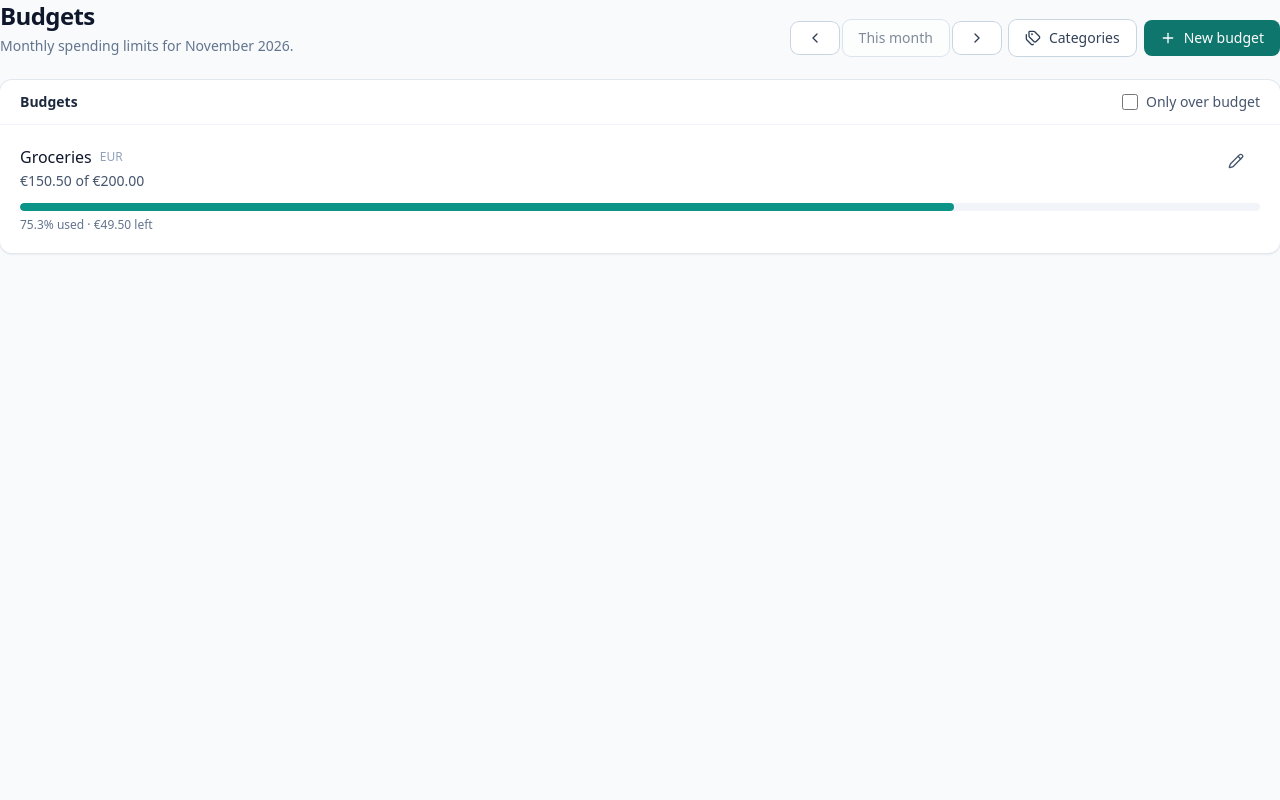
Test: BudgetsPage › creates a budget for the shown month with a numeric amount
Check: the text "€150.50 of €200.00" is shown, box [20,171,144,191]
Click the button "New budget" at (1212, 38), box [1144,20,1279,56]
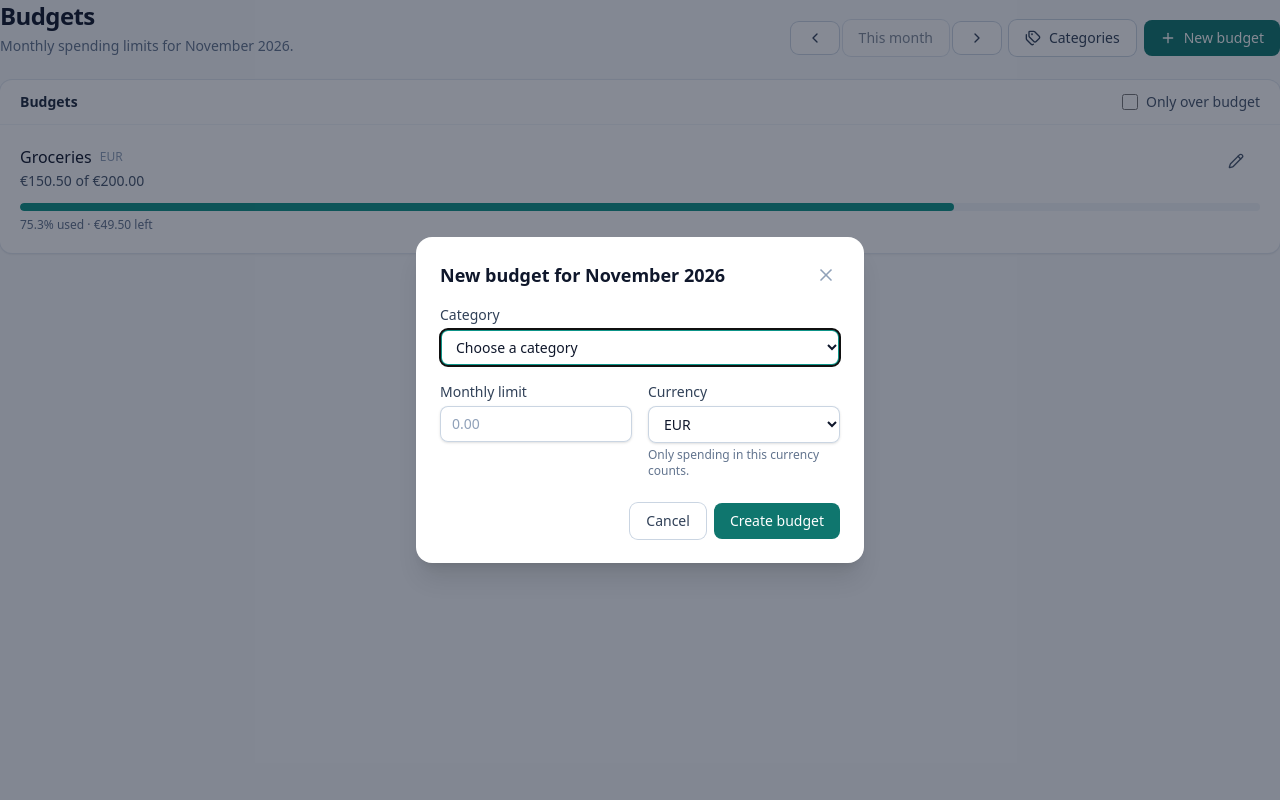
Select "Travel" in the dropdown labelled "Category" at (640, 348), box [440,329,840,366]
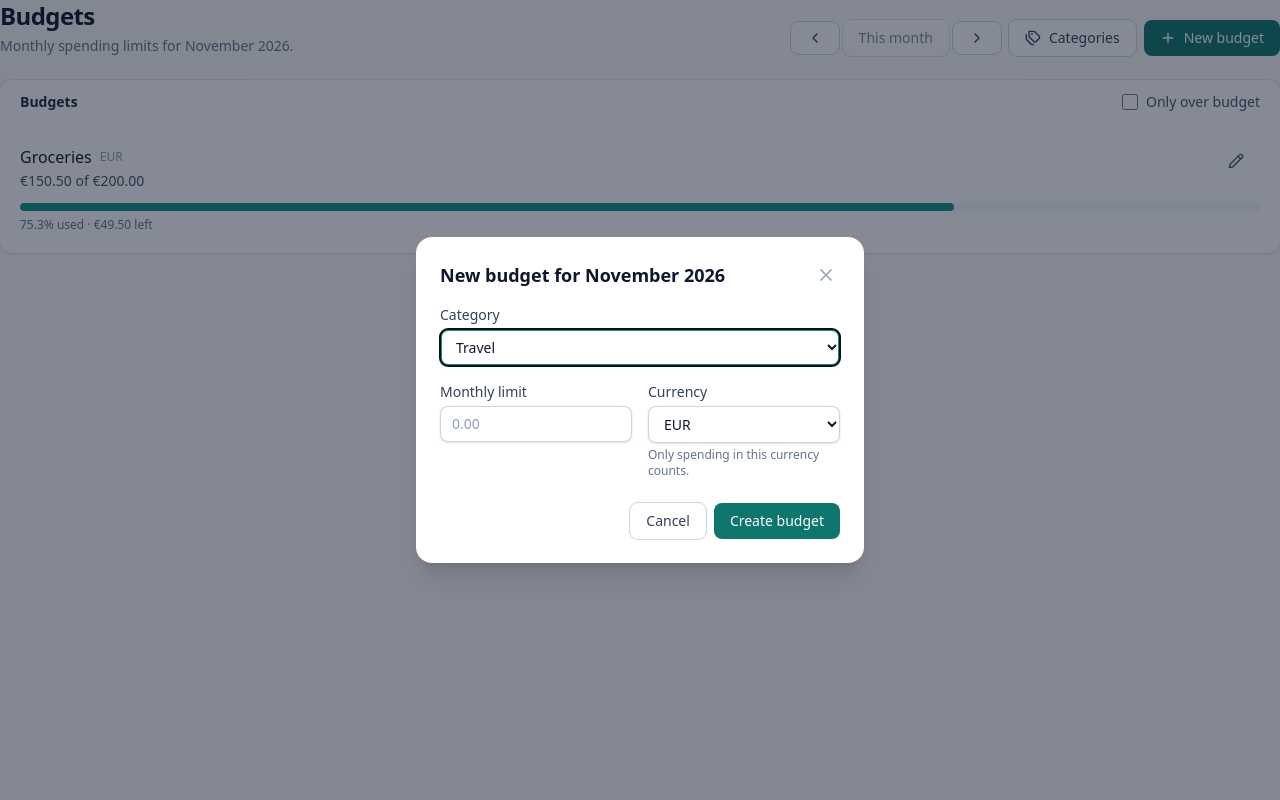
Type "300" into the field labelled "Monthly limit" at (536, 424), box [440,406,632,442]
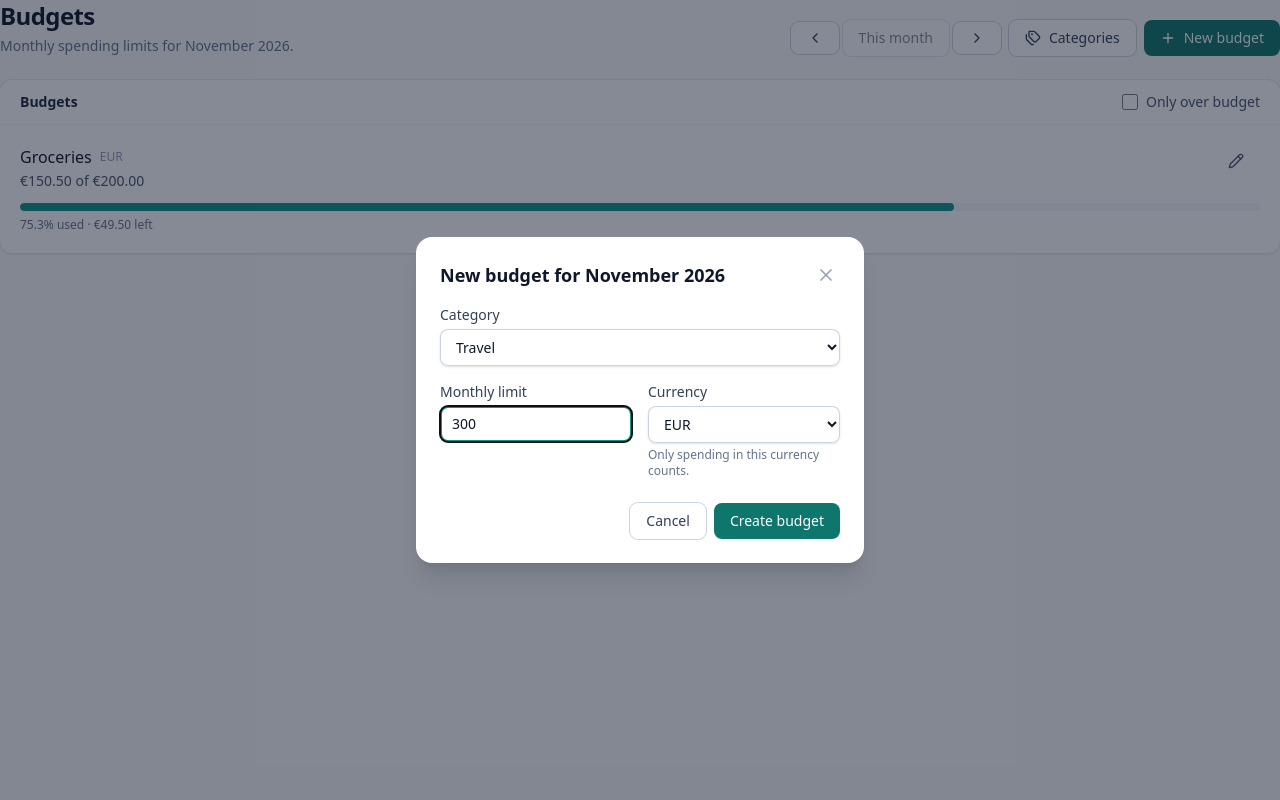
Click the button "Create budget" at (777, 521), box [714,503,840,539]
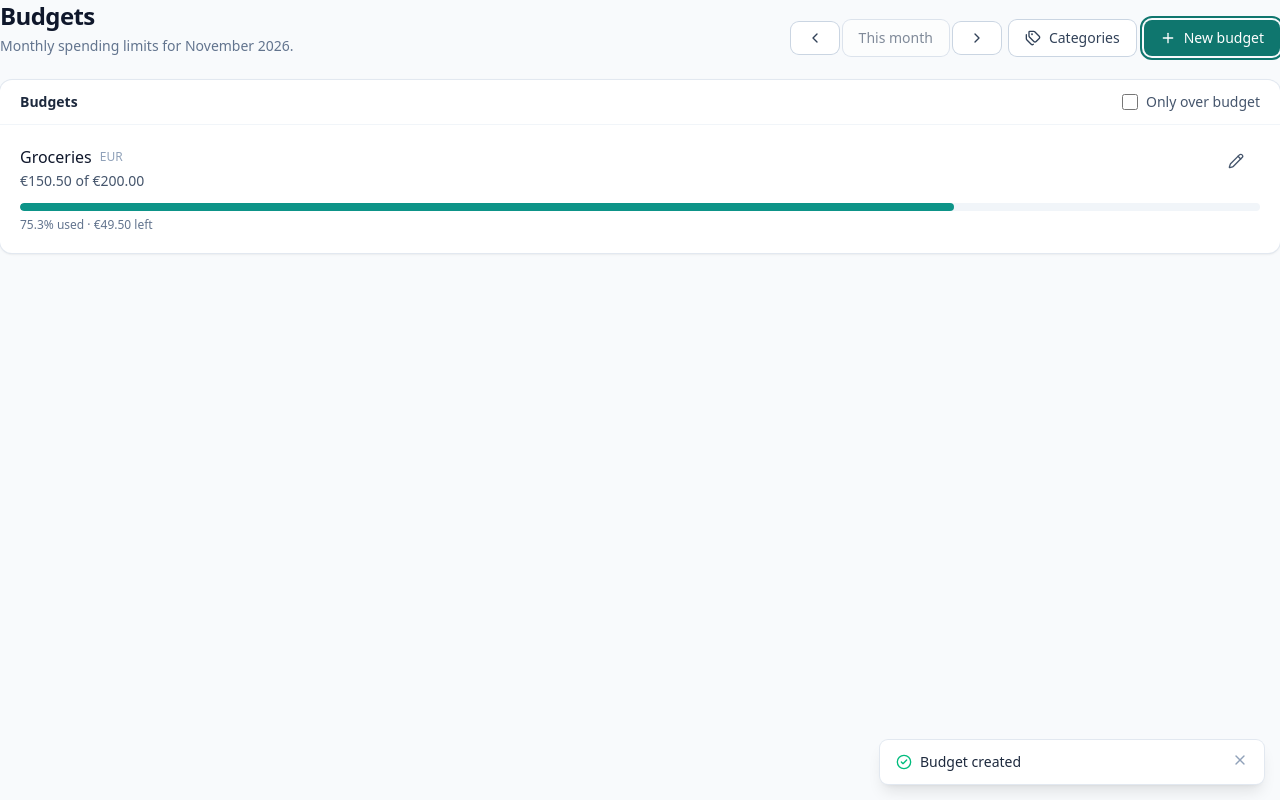
Check: the dialog is gone
